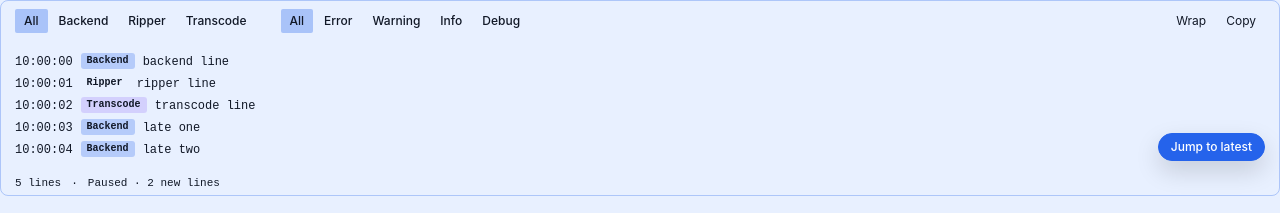
Test: LogView › counts the lines that arrive while paused and resets on jump
Expected: the text with test id "job-log-follow" reads "Paused · 2 new lines", [88,177,220,189]
Click the button with test id "job-log-jump".
click(1211, 147)  # box [1158,133,1265,161]
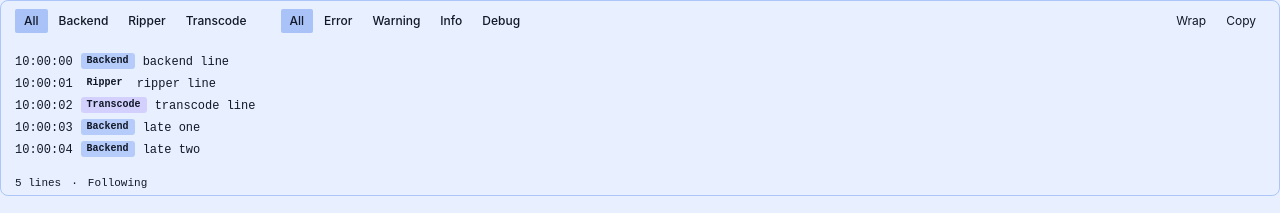
Expected: the text with test id "job-log-follow" reads "Following", [88,177,147,189]
